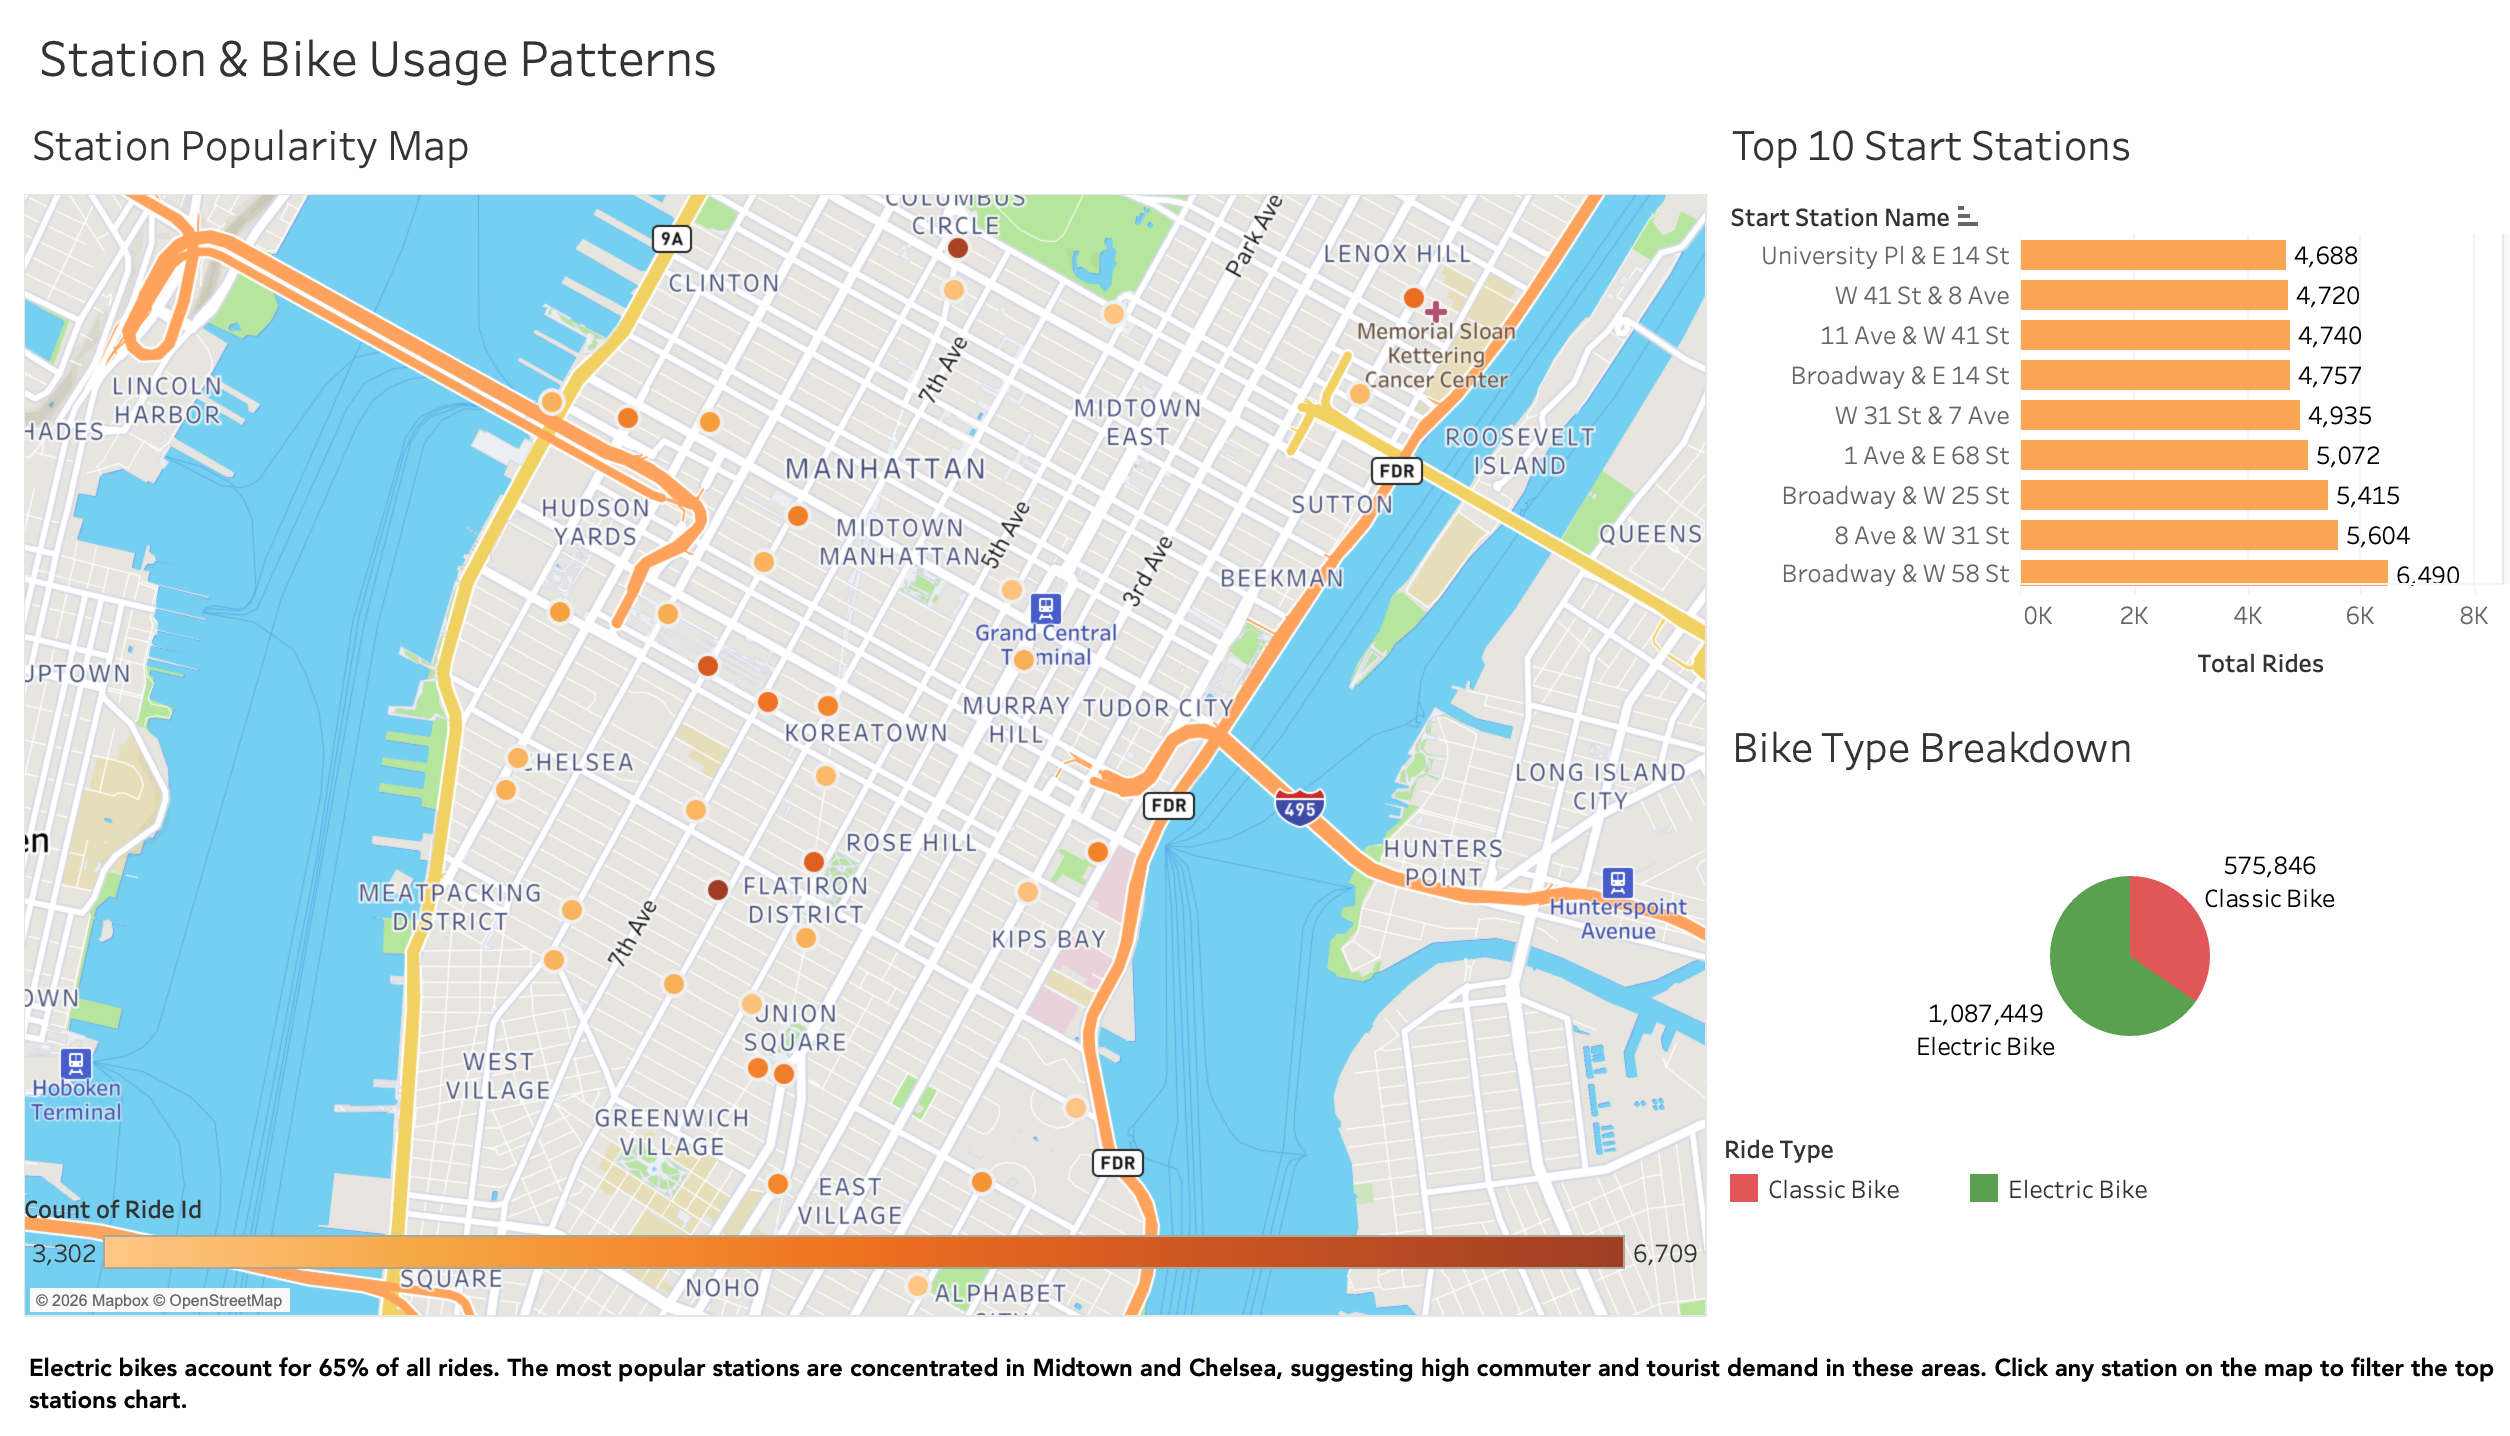

Layout of this report page (visuals, bound fields, positions):
{"tool":"tableau","page":{"name":" Station & Bike Usage Patterns","canvas":[1000,1000],"units":"permille","ordinal":1},"visuals":[{"type":"title","box":[7.5,12,985,62.9]},{"type":"worksheet","title":"Station Popularity Map","mark":"Automatic","rows":["start_lat"],"cols":["start_lng"],"box":[7.5,74.9,597.8,832.3]},{"type":"worksheet","title":"Top 10 Start Stations","mark":"Automatic","rows":["start_station_name"],"cols":["ride_id"],"box":[605.2,74.9,387.3,450.6]},{"type":"worksheet","title":"Bike Type Breakdown","mark":"Pie","box":[605.2,525.5,387.3,312.8]},{"type":"legend","title":"Station Popularity Map","param":"[federated.17jq1490oddnmz11a9hni1dhv889].[cnt:ride_id:qk]","box":[7.5,811.3,597.8,95.8]},{"type":"legend","title":"Bike Type Breakdown","param":"[federated.17jq1490oddnmz11a9hni1dhv889].[none:rideable_type:nk]","box":[605.2,838.3,387.3,68.9]},{"type":"text","box":[7.5,907.2,985,80.9]}]}

Visuals, with their boxes on the dashboard's canvas, which has no fixed pixel size, in thousandths of its width and height (x1, y1, x2, y2). These are canvas units, not pixel positions in the 2510x1436 screenshot, which may show the page scaled, cropped or inside an application window:
title: 8/12/992/75
"Station Popularity Map" worksheet: 8/75/605/907
"Top 10 Start Stations" worksheet: 605/75/992/526
"Bike Type Breakdown" worksheet (Pie marks): 605/526/992/838
"Station Popularity Map" legend: 8/811/605/907
"Bike Type Breakdown" legend: 605/838/992/907
text: 8/907/992/988
